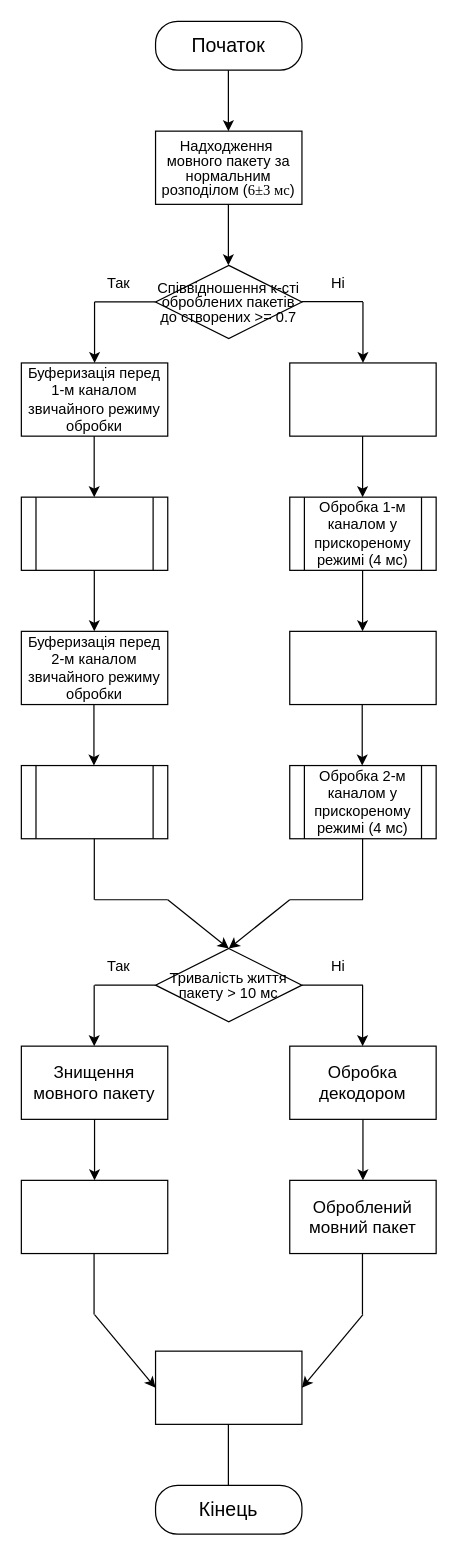
The diagram is 458 pixels wide and 1556 high, and some of its shapes have lost their labels. The shapes that lost their labels are listed below. From the top down, each one's centre as x and y in pixels, then its label:
At point (362, 399): "Буферизація перед 1-м каналом резервного режиму обробки".
At point (94, 533): "Обробка 1-м каналом у звичайному режимі (5 мс)".
At point (362, 667): "Буферизація перед 2-м каналом резервного режиму обробки".
At point (94, 801): "Обробка 2-м каналом у звичайному режимі 5 мс".
At point (94, 1216): "Знищений мовний пакет".
At point (228, 1387): "Оновлення статистики по кількості втрачених пакетів".
